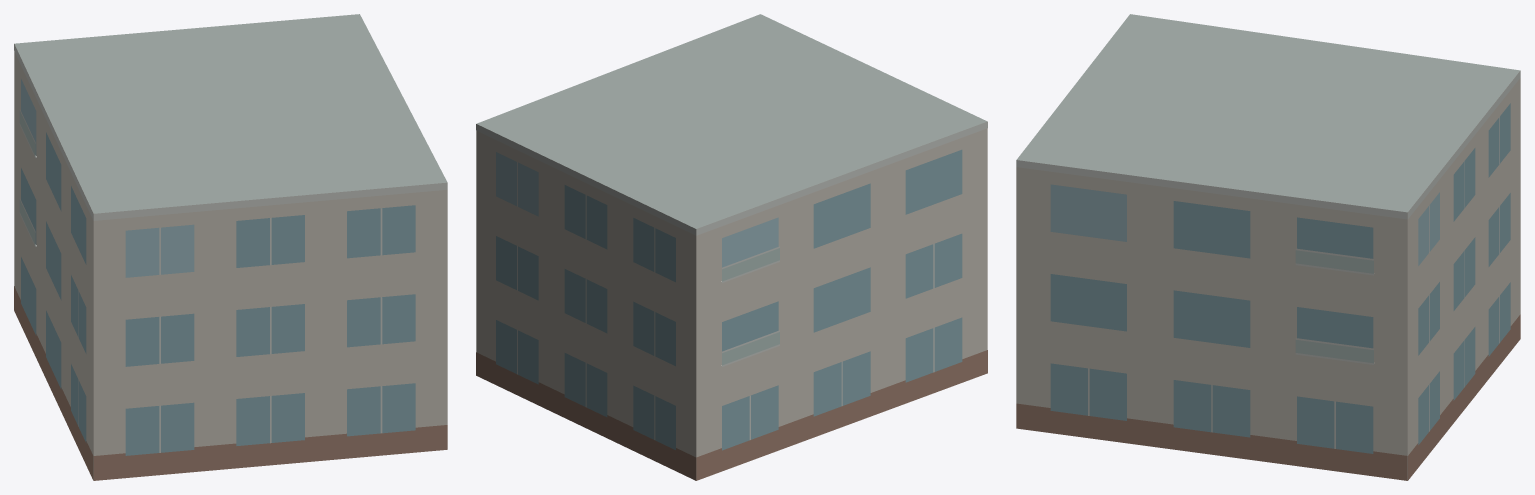
File: survey-upis-32529734.glb
3 renders of one model, left to right at view 1: azimuth 30°, elevation 25°; view 2: azimuth 150°, elevation 25°; view 3: azimuth 270°, elevation 25°, orthographic. The views are drawn at different scales.
Parts seen in each view (by area): view 1: survey-upis-32529734.tmp; view 2: survey-upis-32529734.tmp; view 3: survey-upis-32529734.tmp.
Boxes of the visible parts, x1,y1,x2,y2 form: survey-upis-32529734.tmp: (14, 14, 447, 480); survey-upis-32529734.tmp: (476, 14, 987, 480); survey-upis-32529734.tmp: (1016, 14, 1520, 480).
Size of the model in its own units: 14.51 by 9.15 by 15.58.
